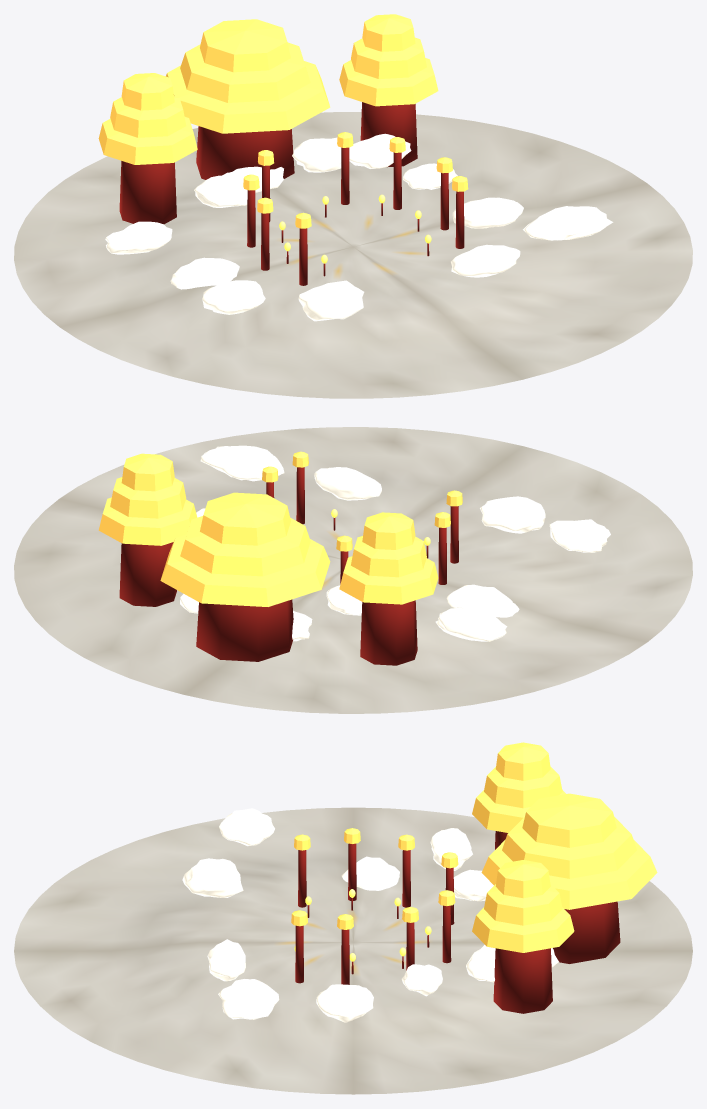
File: arena-celestial.4d4d85ee7a.glb
3 views of the same model, one above another, from view 1: azimuth 30°, elevation 25°; view 2: azimuth 150°, elevation 25°; view 3: azimuth 270°, elevation 25° (orthographic).
Visible parts, largest first — view 1: Arena; view 2: Arena; view 3: Arena.
Part boxes in pixels (bbox=[...]): Arena: bbox=[14, 14, 692, 398]; Arena: bbox=[14, 427, 692, 713]; Arena: bbox=[14, 742, 692, 1094].
Size of the model in its own units: 44 by 10.72 by 44.
